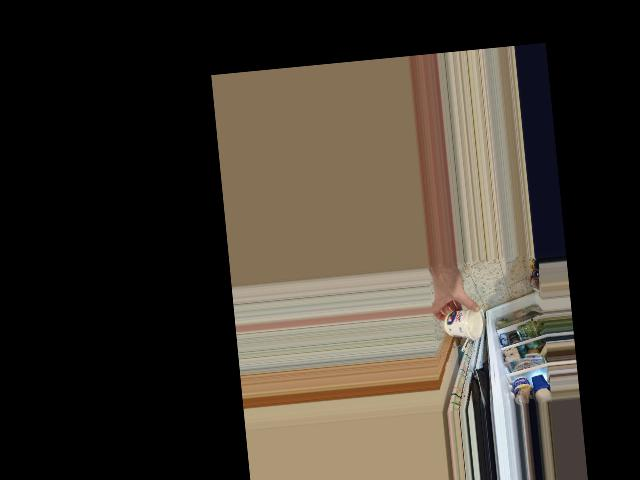cotage: (444, 306, 485, 341)
